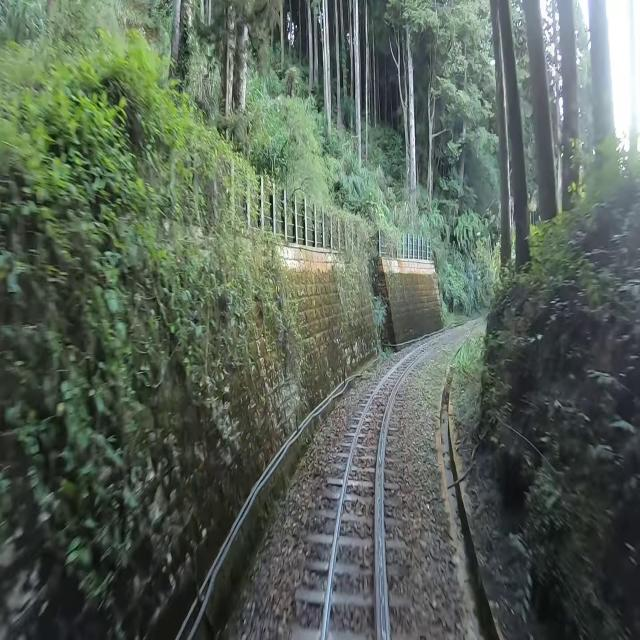rail-track: (325, 345, 430, 639)
